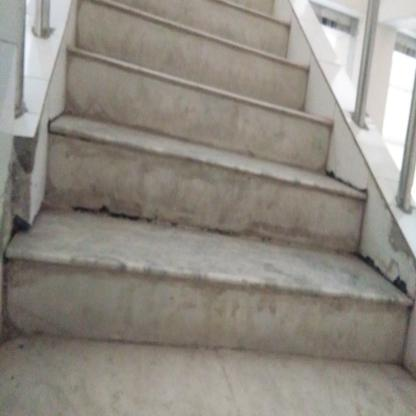stairs: (100, 33, 294, 366)
